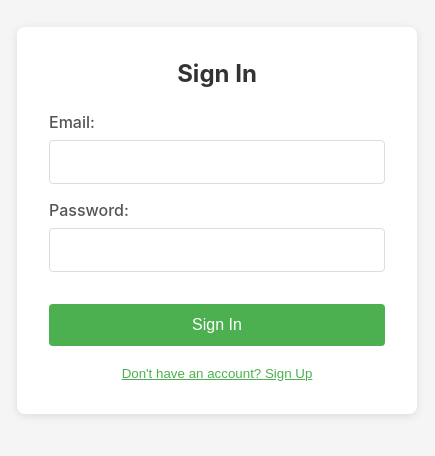
Test case: Login Component › shows an error message when login fails
Type "wrong@example.com" into the field labelled "Email:" at (217, 162), box [49,140,385,184]
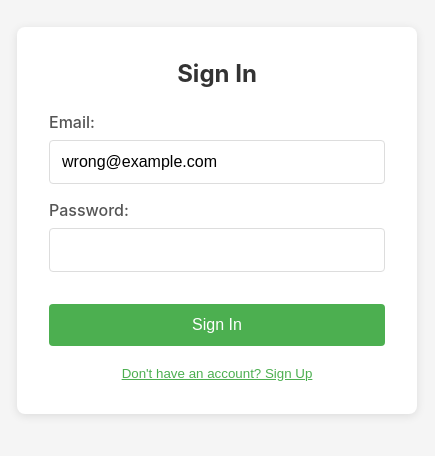
Type "wrongpass" into the password field labelled "Password:" at (217, 250), box [49,228,385,272]
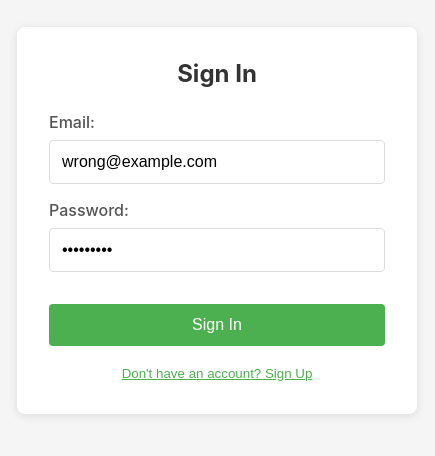
Click the button "Sign In" at (217, 324), box [49,304,385,346]
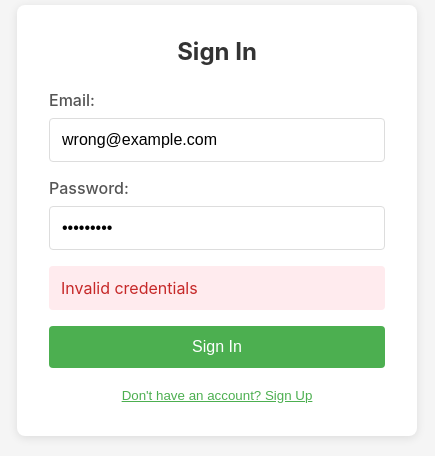
Now the text "Invalid credentials" is shown, box [49,266,385,310]
